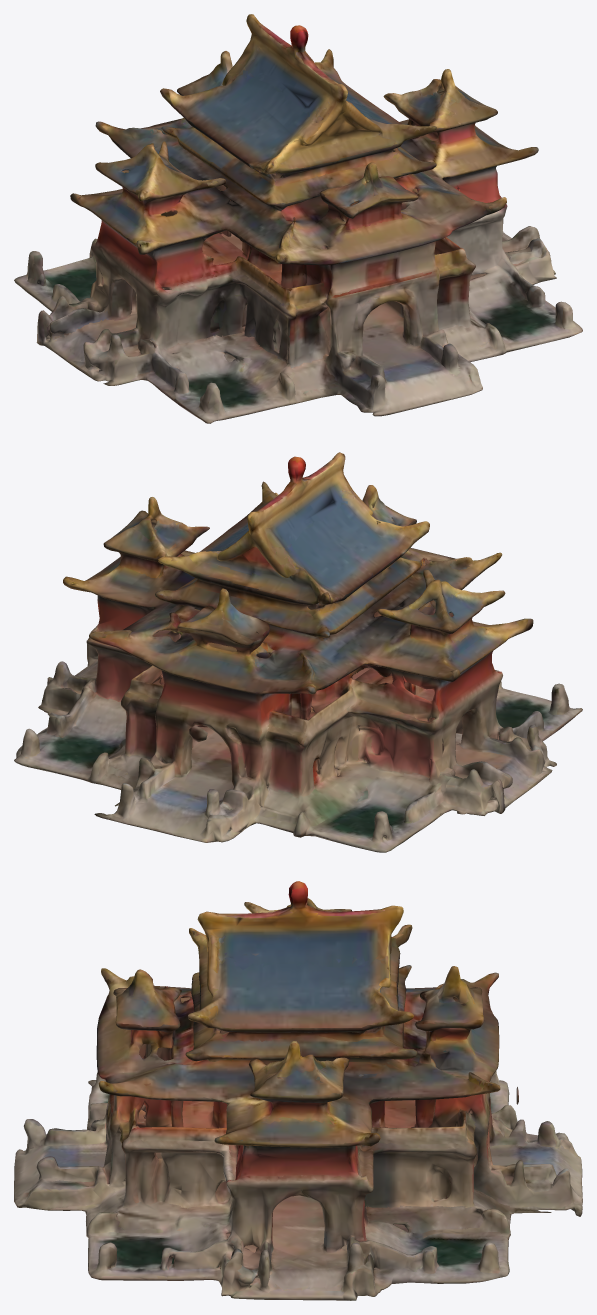
The model's file is bq_array_hall.glb.
3 views of the same model, one above another, from view 1: azimuth 30°, elevation 25°; view 2: azimuth 150°, elevation 25°; view 3: azimuth 270°, elevation 25° (orthographic). The views are drawn at different scales.
Bounding box in the file's own units: 2 × 1.16 × 1.99.
Materials: 1 (1 with a texture image).
